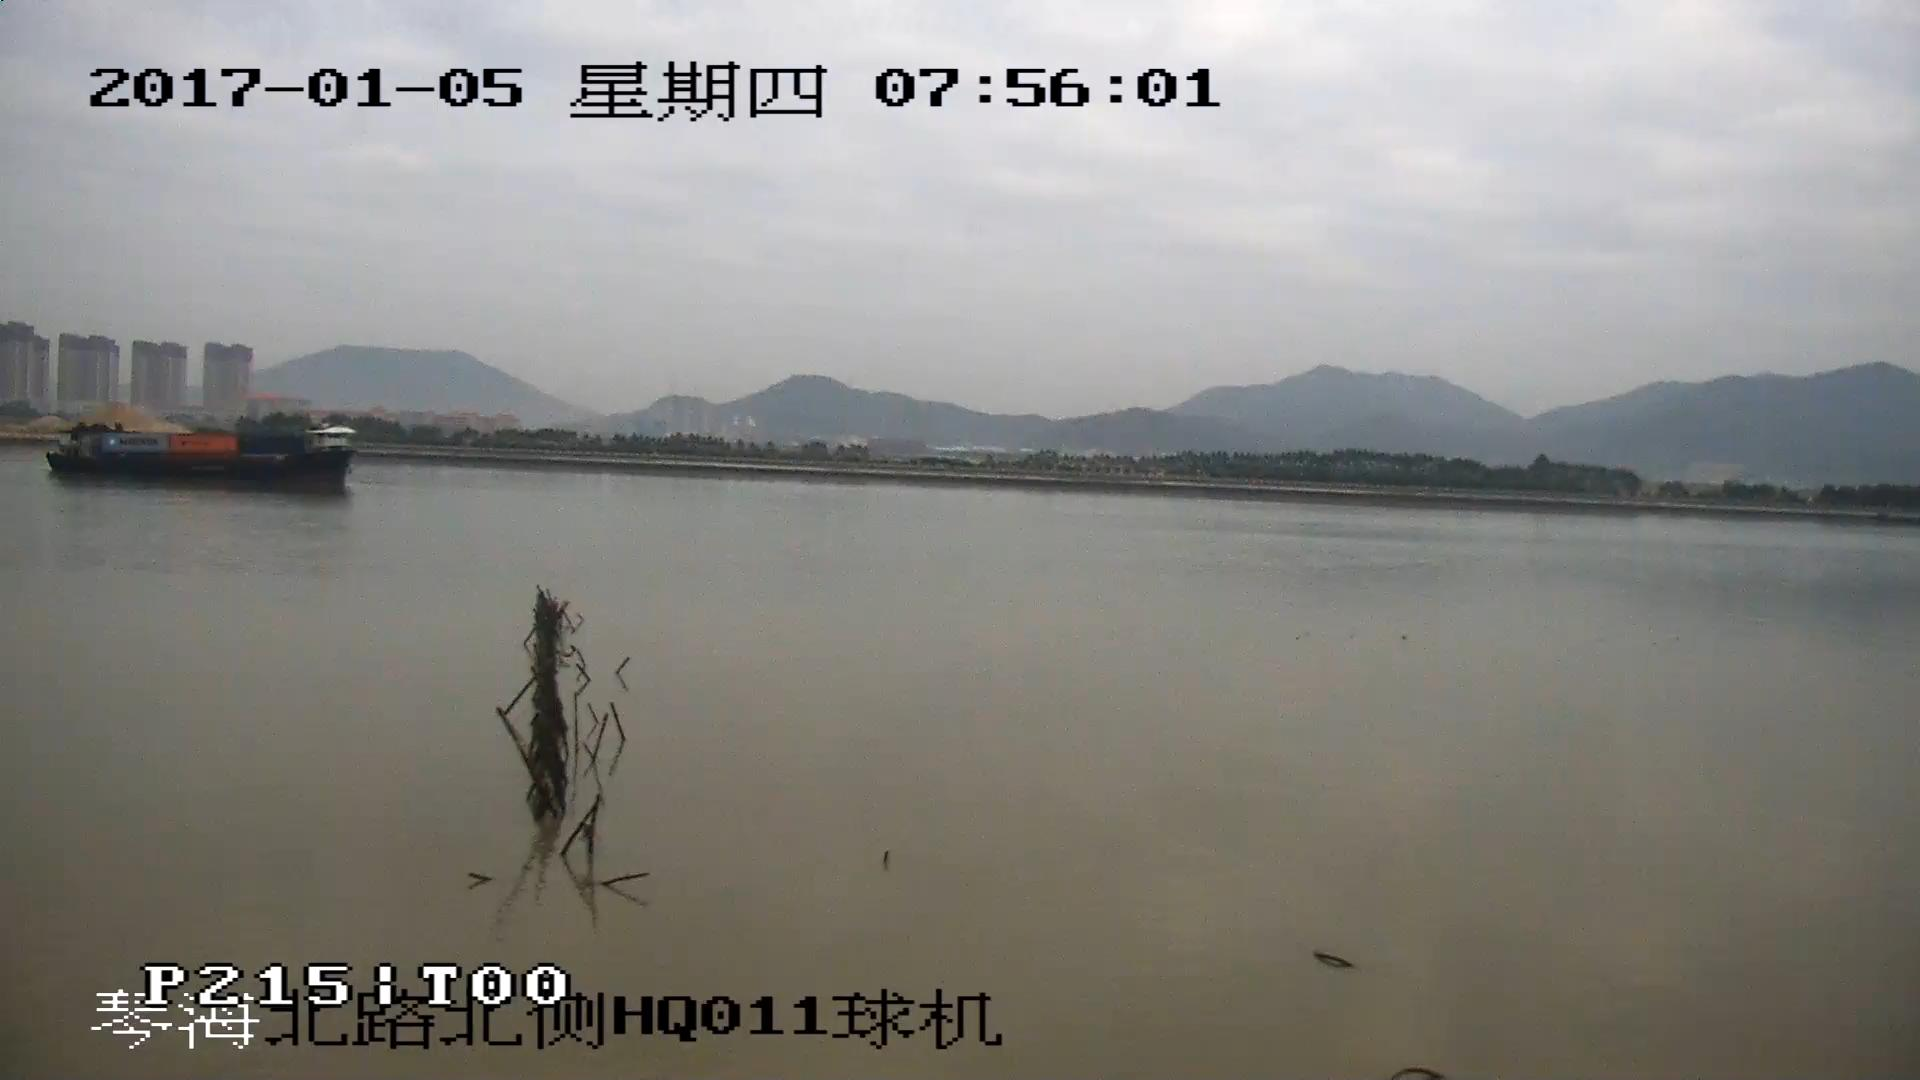container ship: (45, 426, 353, 489)
